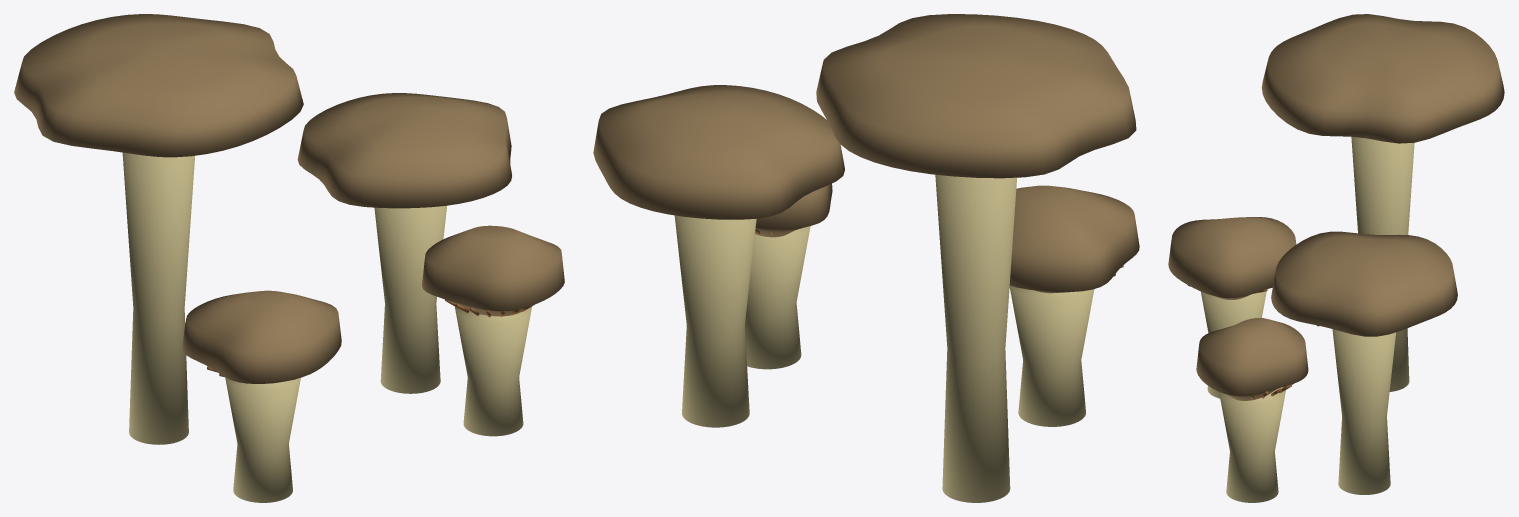
The picture shows the model from 3 angles, left to right: view 1: azimuth 30°, elevation 25°; view 2: azimuth 150°, elevation 25°; view 3: azimuth 270°, elevation 25°; orthographic projection. The views are drawn at different scales.
Parts seen in each view (by area): view 1: TI046 / broad irregular mushroom cap, TI046 / broad irregular mushroom cap.001, TI046 / slightly bowed mushroom stem, TI046 / broad irregular mushroom cap.002, TI046 / slightly bowed mushroom stem.001, TI046 / broad irregular mushroom cap.003, TI046 / slightly bowed mushroom stem.003, TI046 / slightly bowed mushroom stem.002; view 2: TI046 / broad irregular mushroom cap, TI046 / broad irregular mushroom cap.001, TI046 / slightly bowed mushroom stem, TI046 / slightly bowed mushroom stem.001, TI046 / broad irregular mushroom cap.002, TI046 / slightly bowed mushroom stem.002, TI046 / slightly bowed mushroom stem.003, TI046 / broad irregular mushroom cap.003; view 3: TI046 / broad irregular mushroom cap, TI046 / broad irregular mushroom cap.001, TI046 / slightly bowed mushroom stem.001, TI046 / broad irregular mushroom cap.002, TI046 / broad irregular mushroom cap.003, TI046 / slightly bowed mushroom stem, TI046 / slightly bowed mushroom stem.003, TI046 / slightly bowed mushroom stem.002.
Part boxes in pixels (<box>): TI046 / broad irregular mushroom cap: <box>14,14,303,157</box>; TI046 / broad irregular mushroom cap.001: <box>297,93,511,208</box>; TI046 / slightly bowed mushroom stem: <box>122,152,194,444</box>; TI046 / broad irregular mushroom cap.002: <box>182,290,341,383</box>; TI046 / slightly bowed mushroom stem.001: <box>374,205,446,393</box>; TI046 / broad irregular mushroom cap.003: <box>422,225,564,316</box>; TI046 / slightly bowed mushroom stem.003: <box>455,306,531,436</box>; TI046 / slightly bowed mushroom stem.002: <box>225,377,300,502</box>; TI046 / broad irregular mushroom cap: <box>816,14,1136,178</box>; TI046 / broad irregular mushroom cap.001: <box>593,85,844,219</box>; TI046 / slightly bowed mushroom stem: <box>935,174,1016,502</box>; TI046 / slightly bowed mushroom stem.001: <box>674,215,756,427</box>; TI046 / broad irregular mushroom cap.002: <box>1009,185,1139,293</box>; TI046 / slightly bowed mushroom stem.002: <box>1009,285,1094,426</box>; TI046 / slightly bowed mushroom stem.003: <box>745,226,810,369</box>; TI046 / broad irregular mushroom cap.003: <box>755,183,832,237</box>; TI046 / broad irregular mushroom cap: <box>1261,14,1504,143</box>; TI046 / broad irregular mushroom cap.001: <box>1271,231,1457,336</box>; TI046 / slightly bowed mushroom stem.001: <box>1332,329,1395,494</box>; TI046 / broad irregular mushroom cap.002: <box>1168,217,1296,299</box>; TI046 / broad irregular mushroom cap.003: <box>1196,318,1308,400</box>; TI046 / slightly bowed mushroom stem: <box>1351,136,1414,391</box>; TI046 / slightly bowed mushroom stem.003: <box>1219,387,1285,502</box>; TI046 / slightly bowed mushroom stem.002: <box>1200,291,1266,398</box>.
Size of the model in its own units: 2.51 by 1.98 by 1.8.
